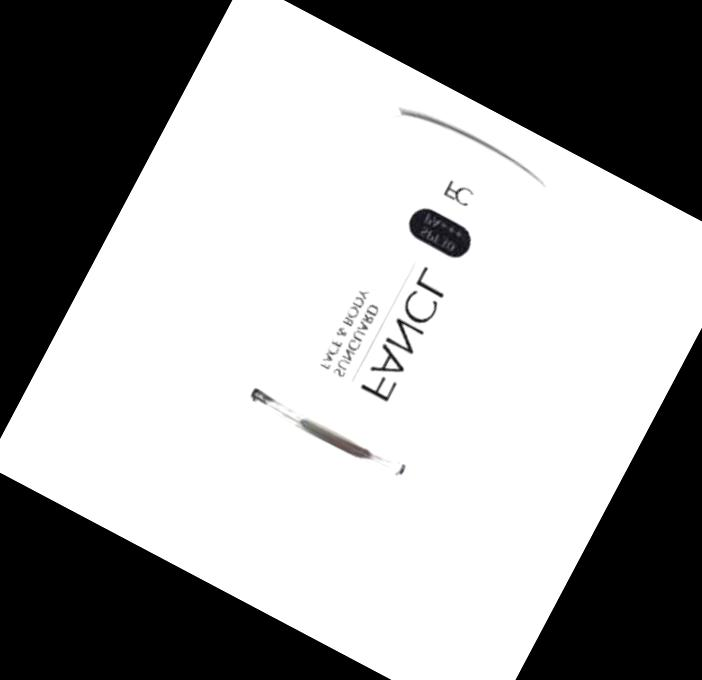cosmetic: (189, 97, 566, 579)
